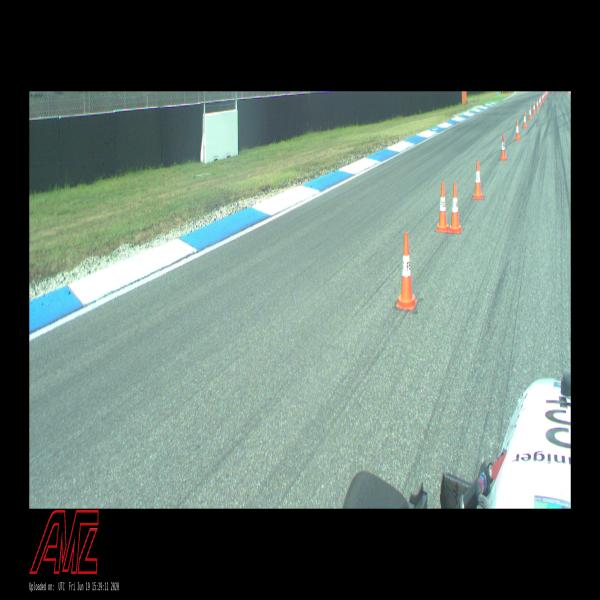orange_cone: (396, 232, 417, 309), (449, 182, 462, 232), (437, 182, 448, 231), (473, 160, 483, 198), (500, 134, 507, 160), (515, 121, 520, 140), (529, 106, 532, 120), (533, 102, 536, 114), (524, 112, 526, 128), (536, 99, 538, 109), (539, 99, 541, 106), (540, 96, 541, 104), (543, 92, 544, 100), (542, 95, 543, 101)
